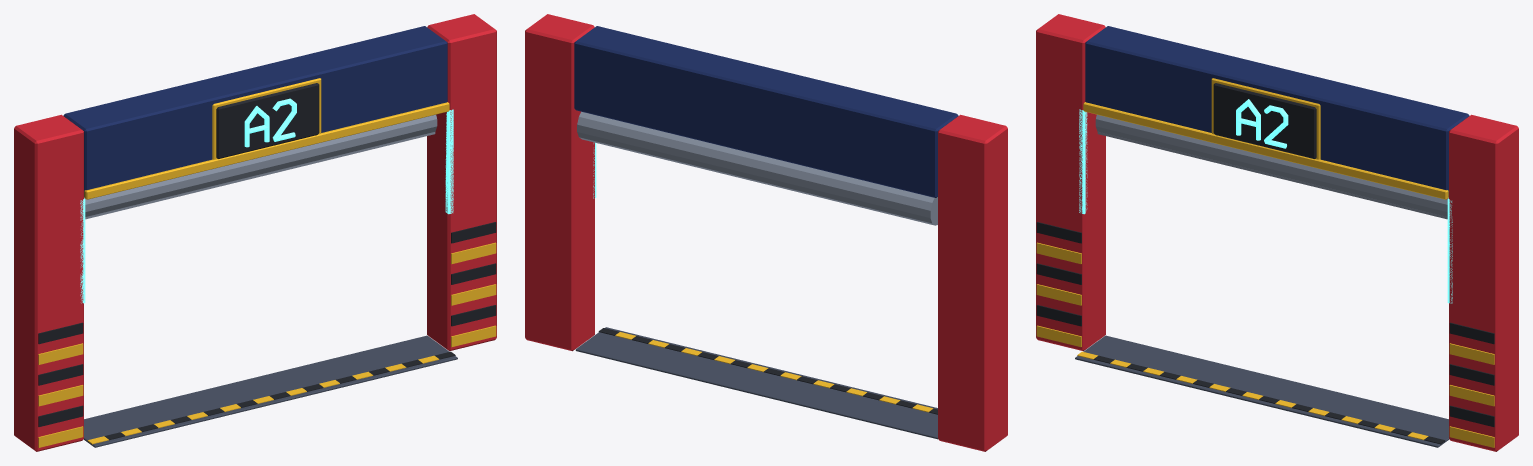
File: GarageFront_A2.fbx
The picture shows the model from 3 angles, left to right: view 1: azimuth 30°, elevation 25°; view 2: azimuth 150°, elevation 25°; view 3: azimuth 330°, elevation 25°; orthographic projection.
Parts seen in each view (by area): view 1: GarageFront_A2, Neon_Cyan; view 2: GarageFront_A2; view 3: GarageFront_A2, Neon_Cyan.
Part boxes in pixels (x1,y1,x2,y2): GarageFront_A2: [14, 14, 496, 451]; Neon_Cyan: [80, 98, 453, 303]; GarageFront_A2: [525, 14, 1007, 451]; GarageFront_A2: [1036, 14, 1518, 451]; Neon_Cyan: [1079, 99, 1452, 303].
Size of the model in its own units: 28 by 18 by 3.53.
2 materials, 1 textured.
